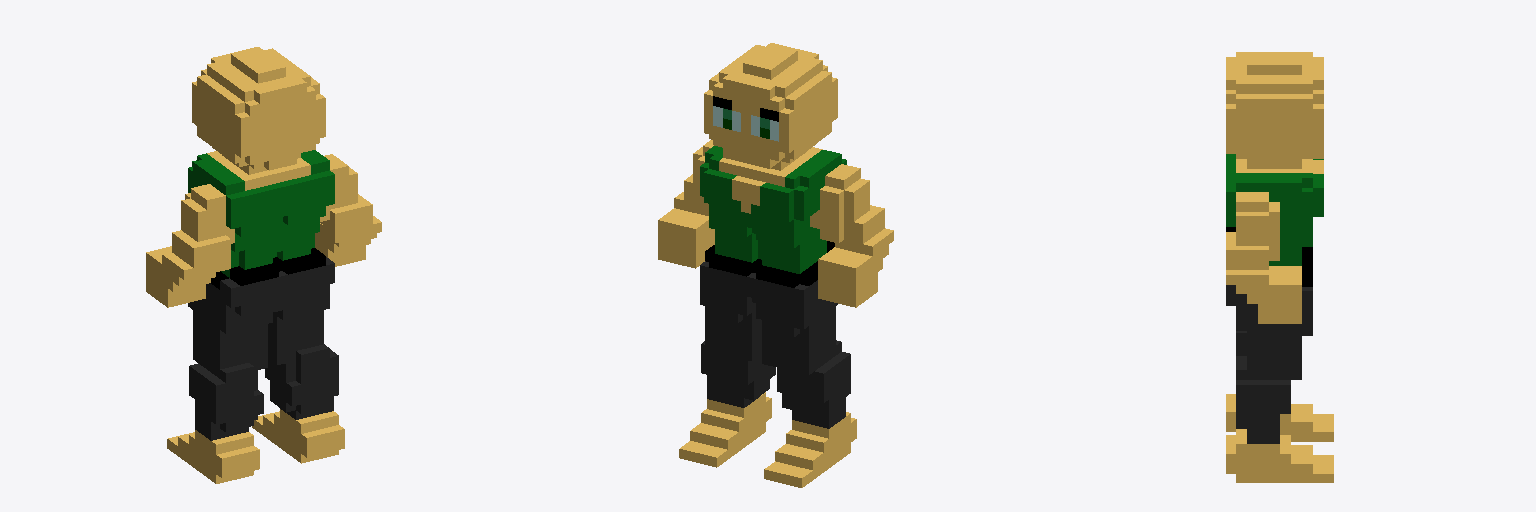
The picture shows the model from 3 angles: view 1: azimuth 30°, elevation 25°; view 2: azimuth 150°, elevation 25°; view 3: azimuth 270°, elevation 25°; orthographic projection.
Parts seen in each view (by area): view 1: object 1; view 2: object 1; view 3: object 1.
Boxes of the visible parts, <box> form: object 1: <box>146,47,381,483</box>; object 1: <box>658,43,893,487</box>; object 1: <box>1226,52,1333,482</box>.
Bounding box in the file's own units: 2.1 × 4 × 1.
Materials: 1 (1 with a texture image).